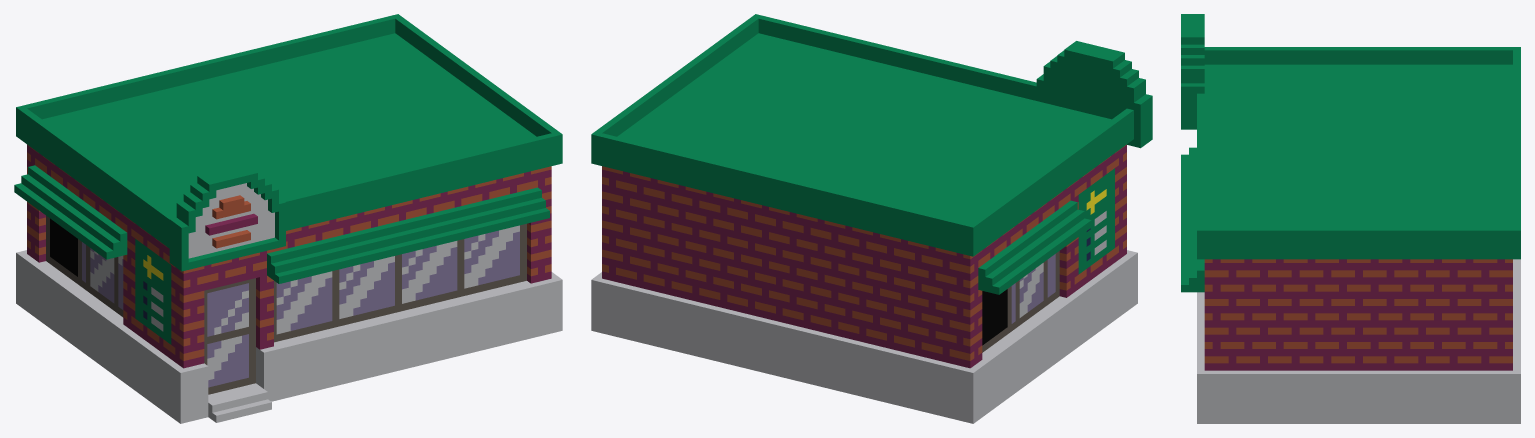
The model's file is burger_shop_b.obj.
3 renders of one model, left to right at view 1: azimuth 30°, elevation 25°; view 2: azimuth 150°, elevation 25°; view 3: azimuth 270°, elevation 25°, orthographic.
Size of the model in its own units: 5.7 by 3.3 by 4.3.
1 material, 1 textured.
